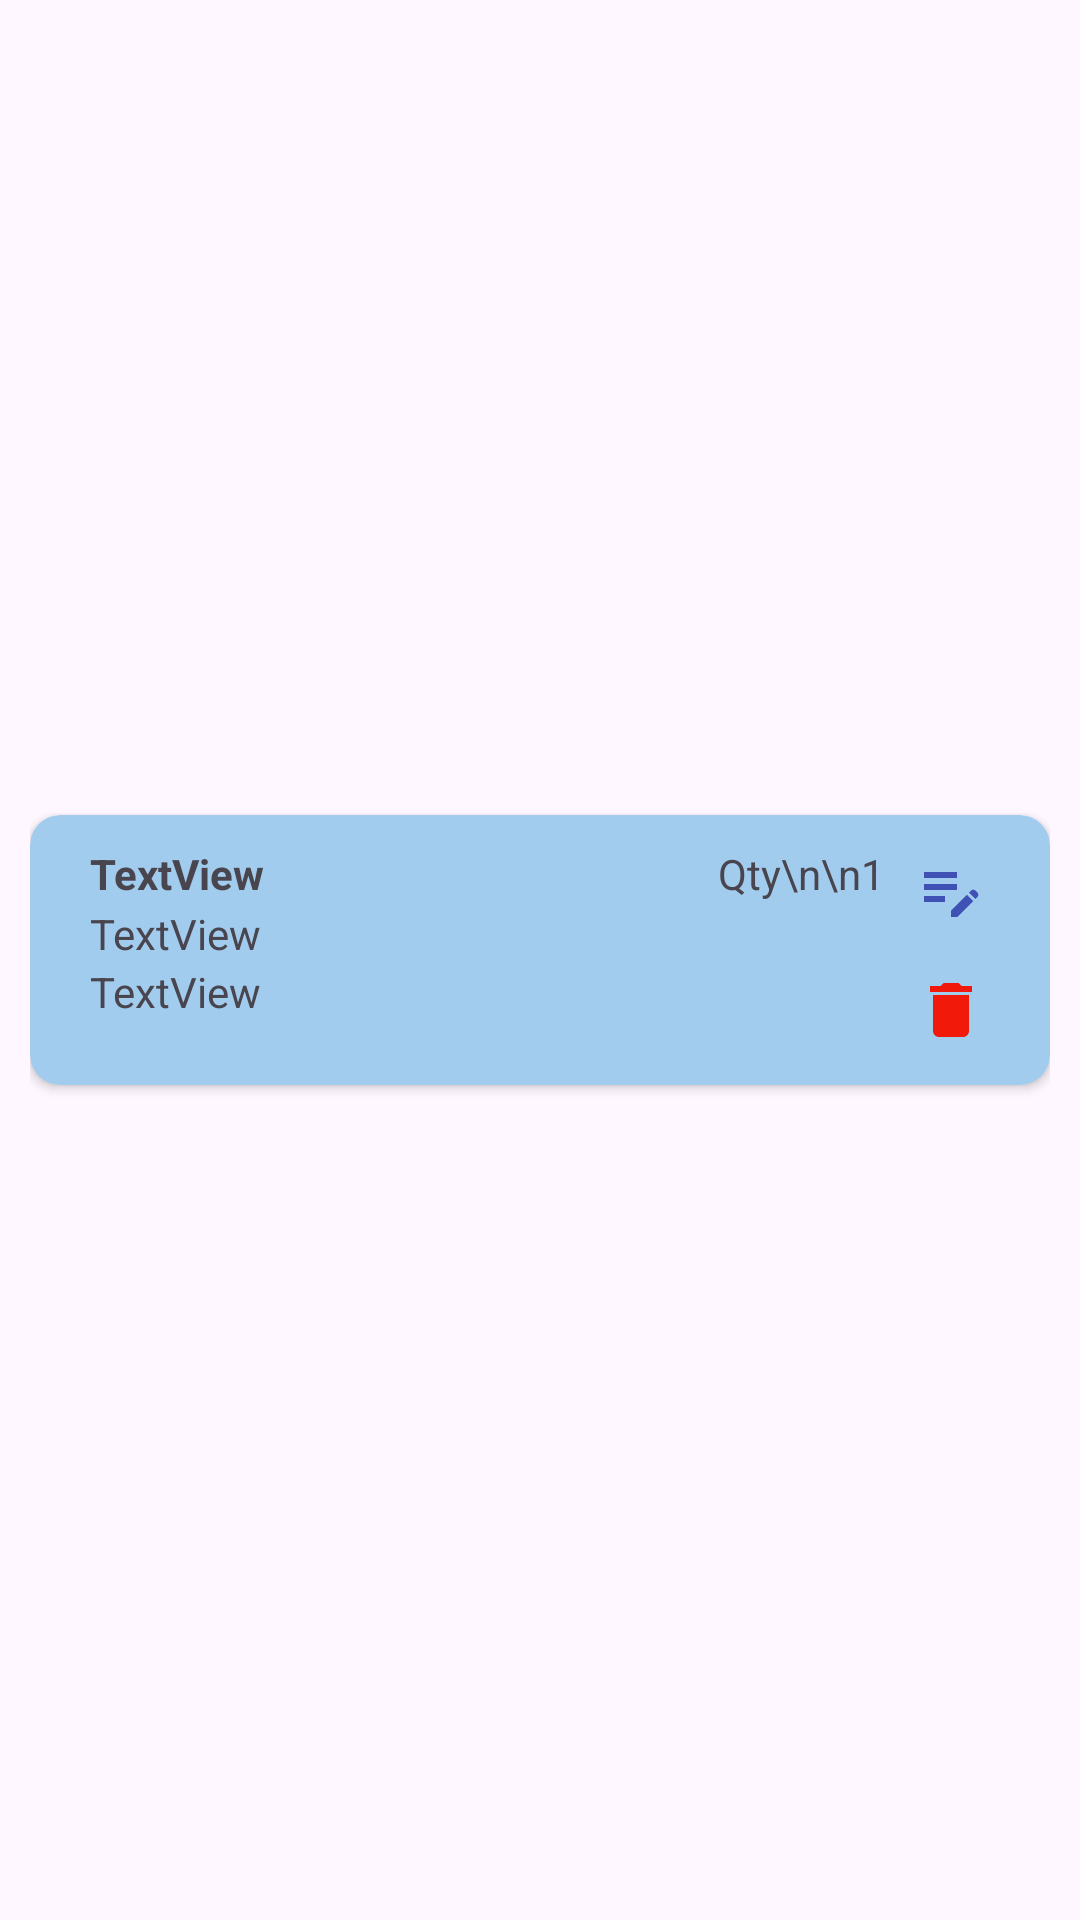

Named icons in this screenshot (1080×1920) and their bounding boxes, (x1, y1, x2, y2):
delete: (930, 983, 972, 1037)
edit note: (924, 872, 979, 917)
